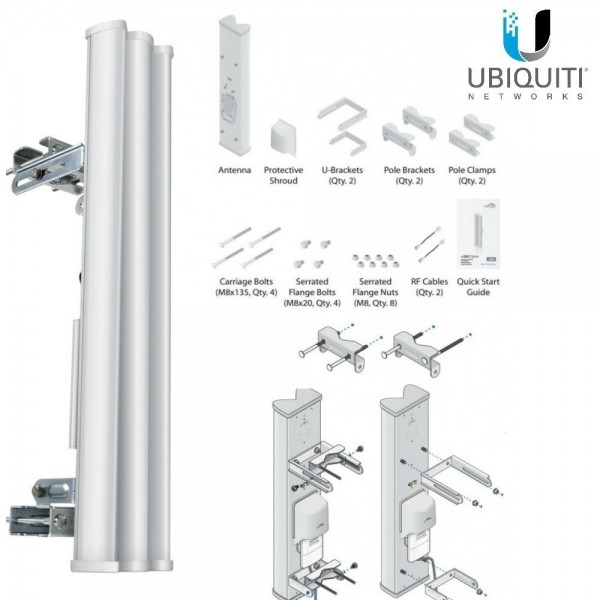sa: (53, 9, 182, 577)
